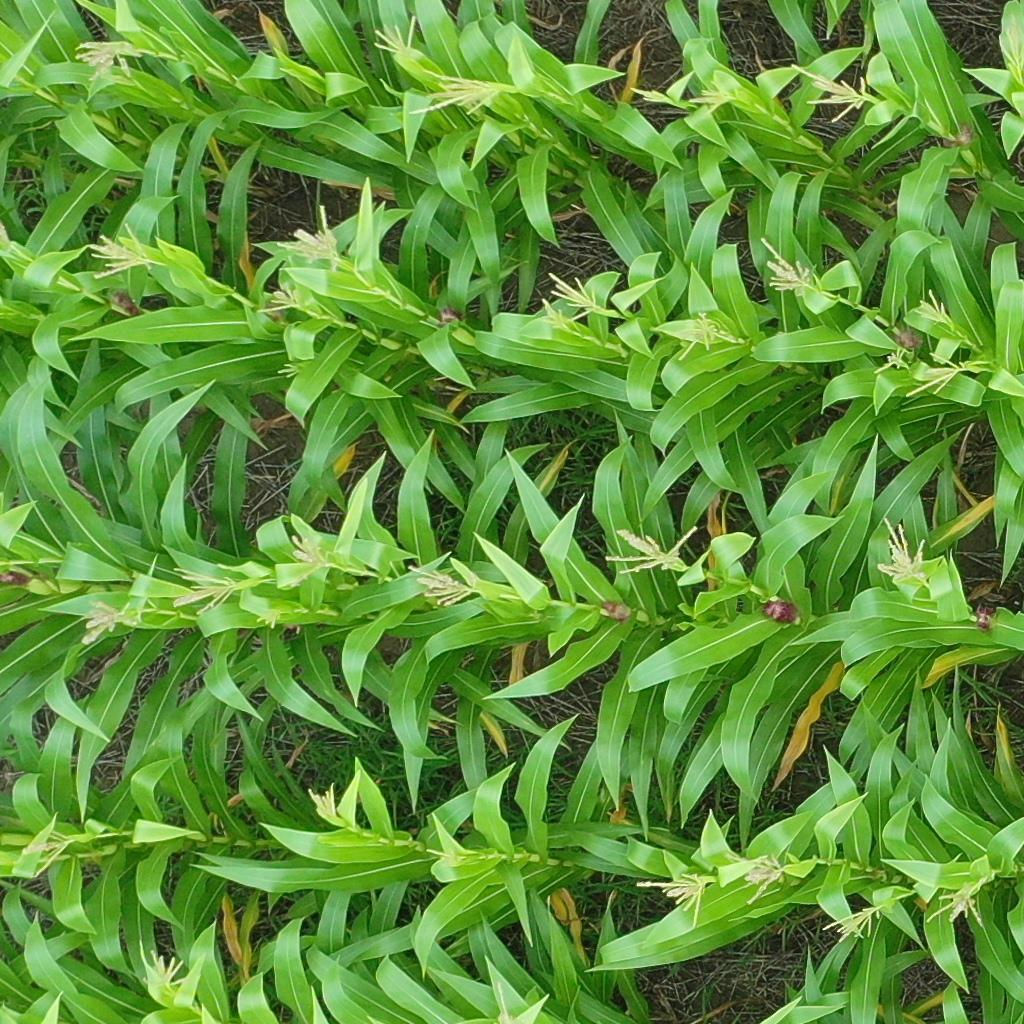Tassel: (604, 517, 702, 584), (405, 64, 510, 123), (794, 61, 876, 123), (276, 200, 346, 271), (85, 221, 170, 279), (871, 518, 935, 592), (758, 233, 822, 305), (630, 870, 712, 925), (168, 559, 237, 622), (671, 307, 749, 362), (907, 345, 975, 406), (406, 565, 476, 613), (71, 35, 147, 79), (919, 884, 987, 931), (547, 268, 603, 322), (735, 853, 791, 905), (367, 13, 423, 64), (21, 825, 73, 877), (75, 600, 129, 649), (137, 950, 193, 995), (815, 905, 886, 938), (282, 535, 336, 572), (687, 77, 738, 115), (911, 292, 959, 329), (256, 284, 304, 318), (999, 28, 1024, 89), (307, 783, 340, 827), (874, 340, 907, 377), (536, 297, 571, 331), (627, 81, 671, 105), (253, 607, 283, 633), (274, 359, 304, 382)
